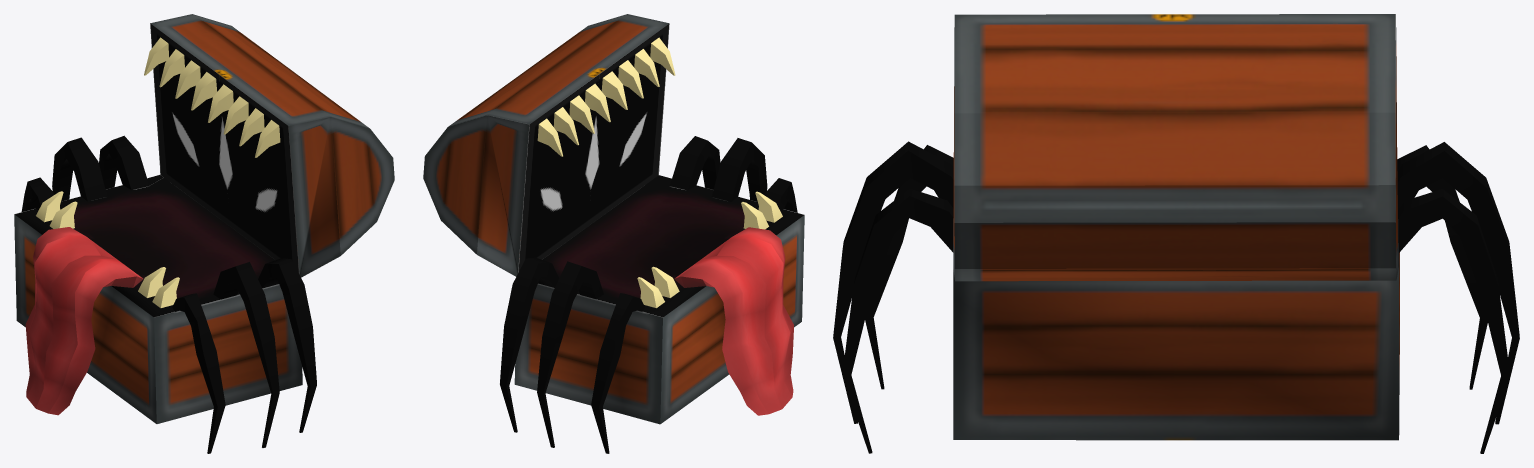
Rendered from cofrearana_000047.obj.
The picture shows the model from 3 angles, left to right: view 1: azimuth 30°, elevation 25°; view 2: azimuth 150°, elevation 25°; view 3: azimuth 270°, elevation 25°; orthographic projection. The views are drawn at different scales.
Visible parts, largest first — view 1: cofreArana:Mesh; view 2: cofreArana:Mesh; view 3: cofreArana:Mesh.
Part boxes in pixels (left/top/right/bottom): cofreArana:Mesh: left=14, top=14, right=394, bottom=453; cofreArana:Mesh: left=423, top=14, right=804, bottom=453; cofreArana:Mesh: left=833, top=14, right=1519, bottom=453.
Bounding box in the file's own units: 7.52 × 7.24 × 9.76.
